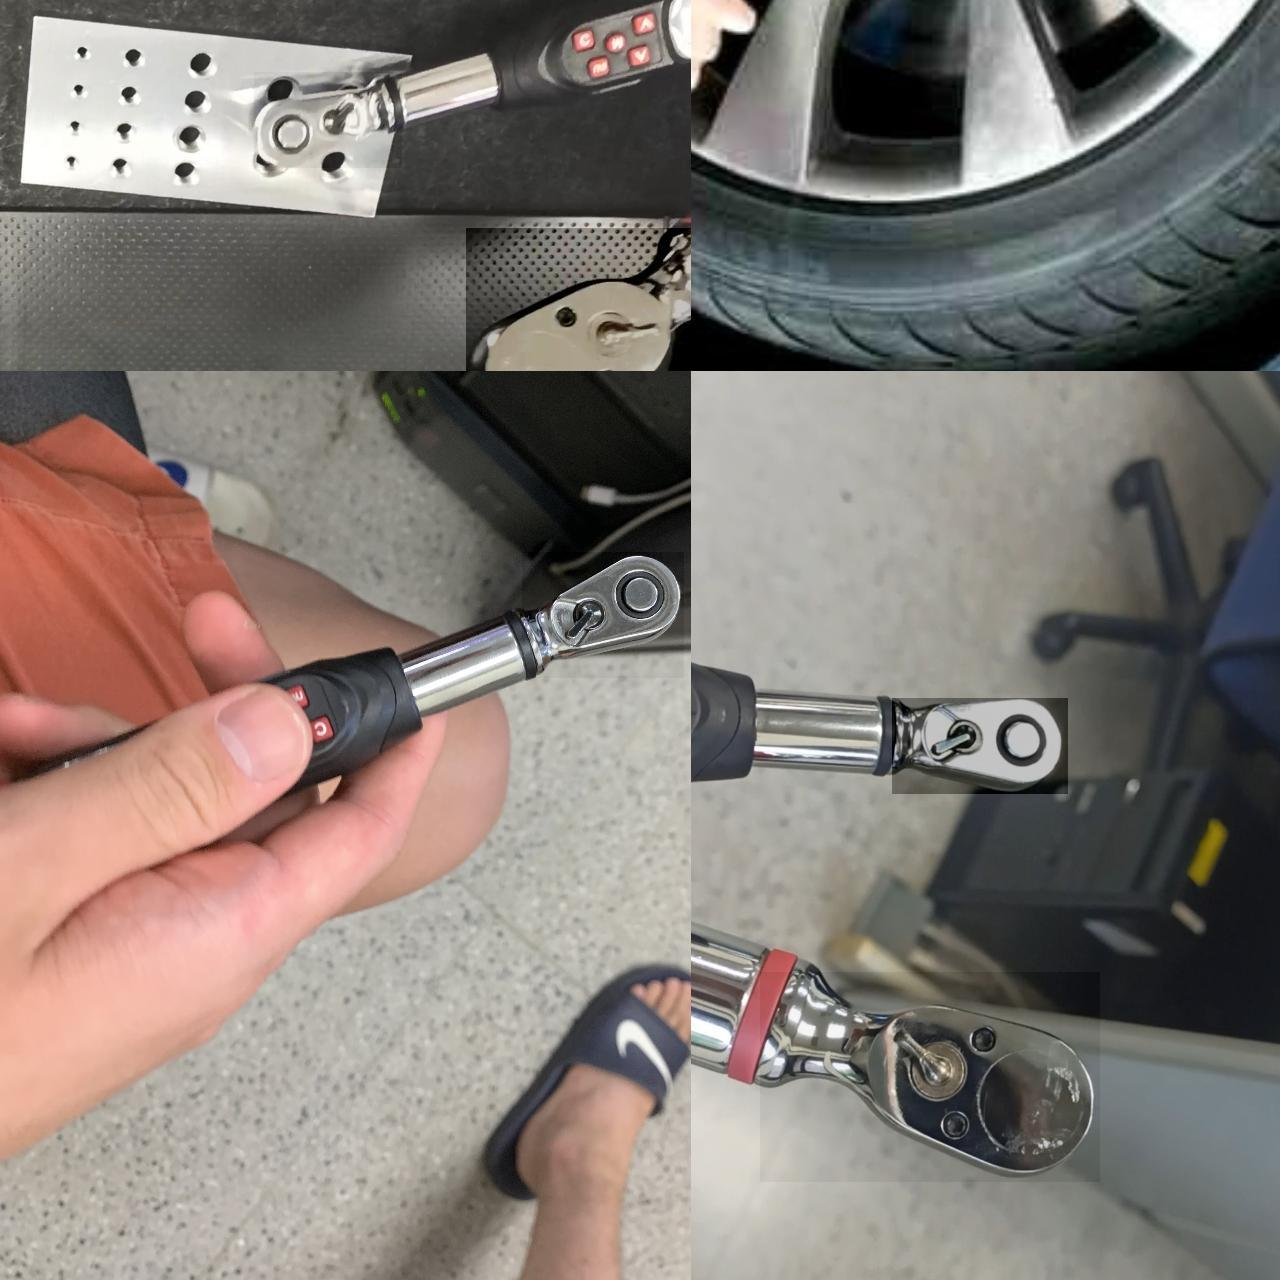Tool: (759, 971, 1099, 1181), (465, 227, 691, 371), (521, 551, 683, 677), (891, 697, 1067, 793), (253, 70, 401, 168)
